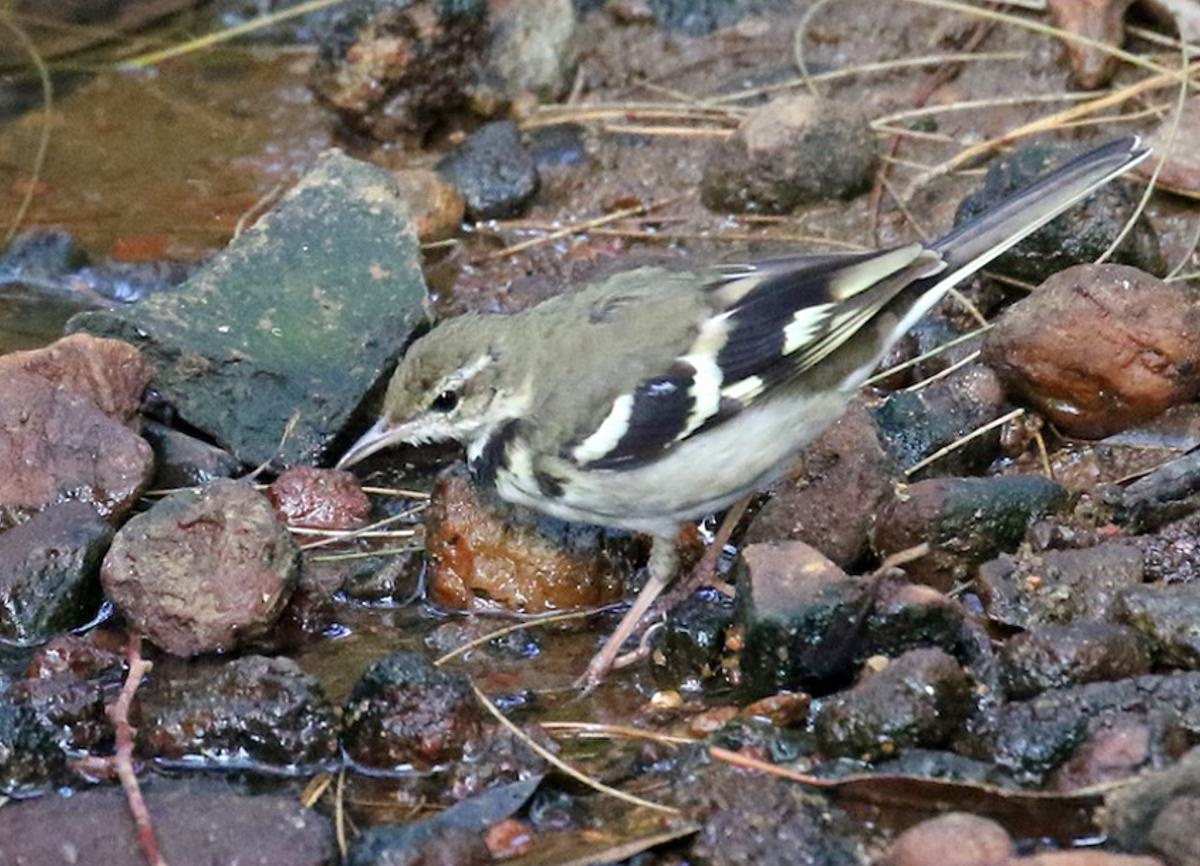wagtail: (368, 185, 1061, 651)
